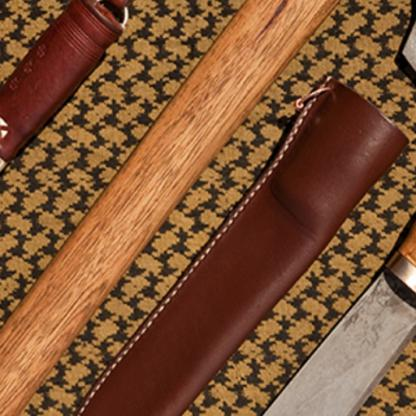knife: (119, 97, 415, 415), (0, 0, 138, 364)
